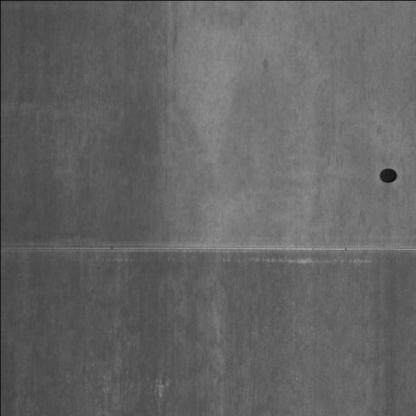punching_hole: (369, 163, 399, 190)
welding_line: (0, 228, 413, 260)
